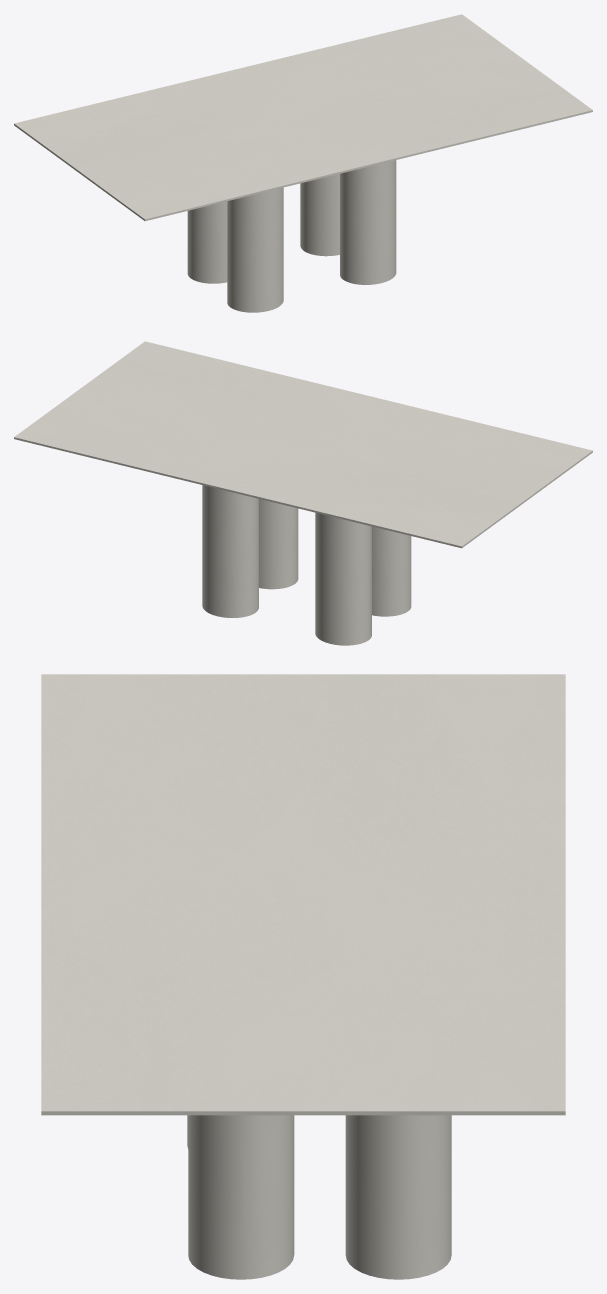
The model's file is pale_recta_facet_grove.glb.
The picture shows the model from 3 angles, top to bottom: view 1: azimuth 30°, elevation 25°; view 2: azimuth 150°, elevation 25°; view 3: azimuth 270°, elevation 25°; orthographic projection. The views are drawn at different scales.
Parts seen in each view (by area): view 1: facet_recta, grove; view 2: facet_recta, grove; view 3: facet_recta, grove.
Boxes of the visible parts, x1,y1,x2,y2 form: facet_recta: (14, 14, 592, 221); grove: (187, 160, 396, 312); facet_recta: (14, 341, 592, 548); grove: (202, 485, 411, 645); facet_recta: (41, 674, 565, 1115); grove: (187, 1115, 451, 1279).
Bounding box in the file's own units: 7.5 × 2.52 × 3.8.
Materials: 1 (1 with a texture image).
